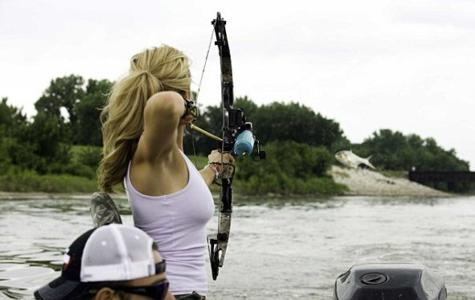person: (100, 45, 235, 300)
